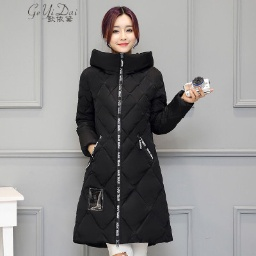face: (100, 6, 143, 56)
